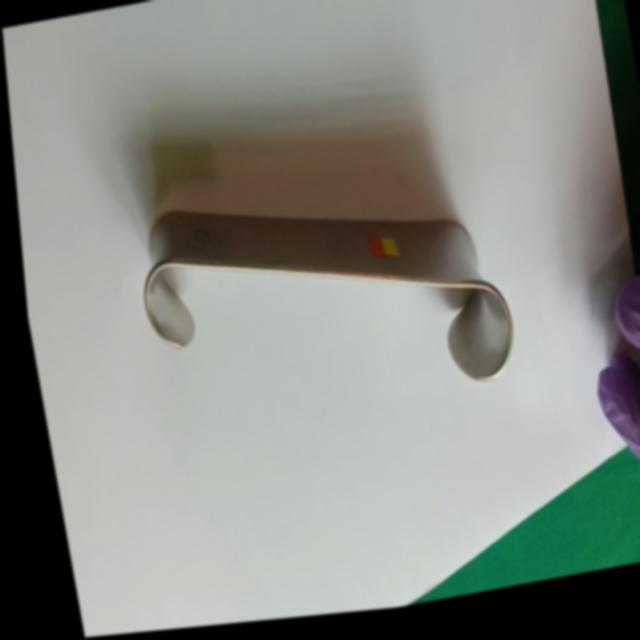CheekRetractor: (122, 153, 520, 449)
